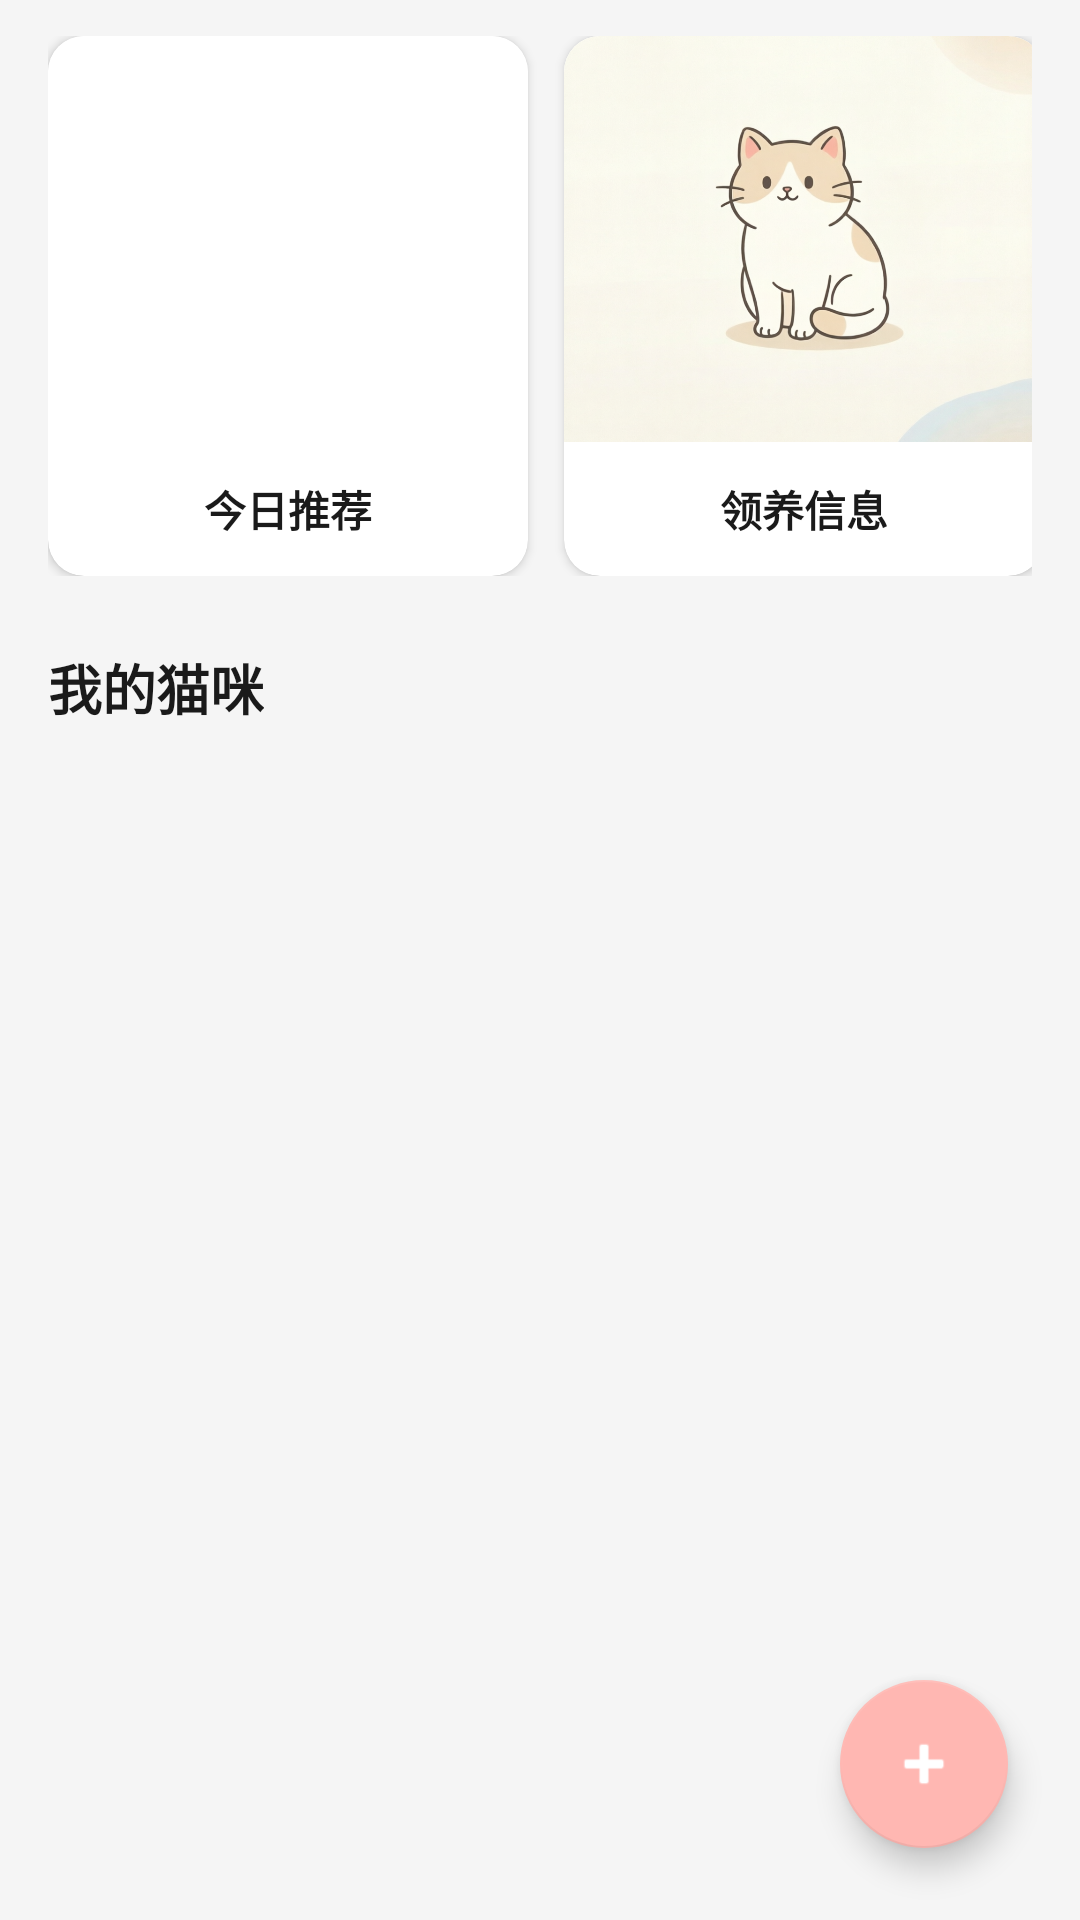

Named icons in this screenshot (1080 x 1920) and their bounding boxes, (x1, y1, x2, y2):
添加猫咪: (840, 1680, 1008, 1848)
